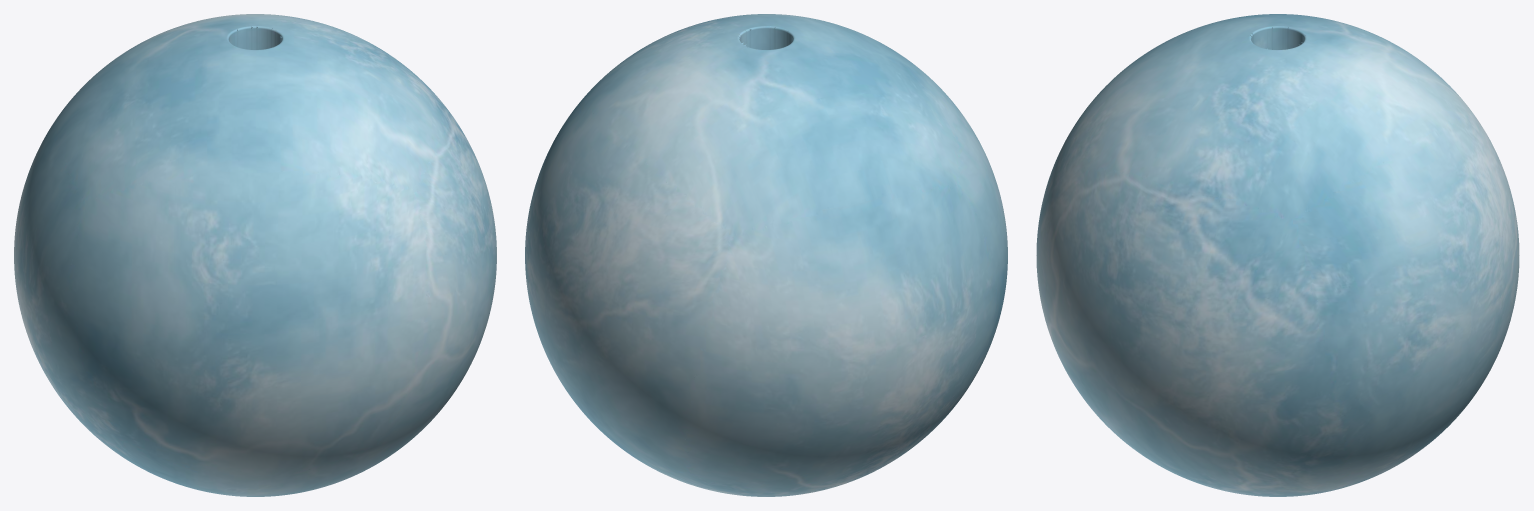
Rendered from stone-aquamarine.glb.
The picture shows the model from 3 angles, left to right: view 1: azimuth 30°, elevation 25°; view 2: azimuth 150°, elevation 25°; view 3: azimuth 270°, elevation 25°; orthographic projection.
Parts seen in each view (by area): view 1: Bead_hi; view 2: Bead_hi; view 3: Bead_hi.
Boxes of the visible parts, x1,y1,x2,y2 form: Bead_hi: [14, 14, 496, 496]; Bead_hi: [525, 14, 1007, 496]; Bead_hi: [1036, 14, 1519, 496].
Bounding box in the file's own units: 1 × 0.9939 × 1.
Materials: 1 (1 with a texture image).
